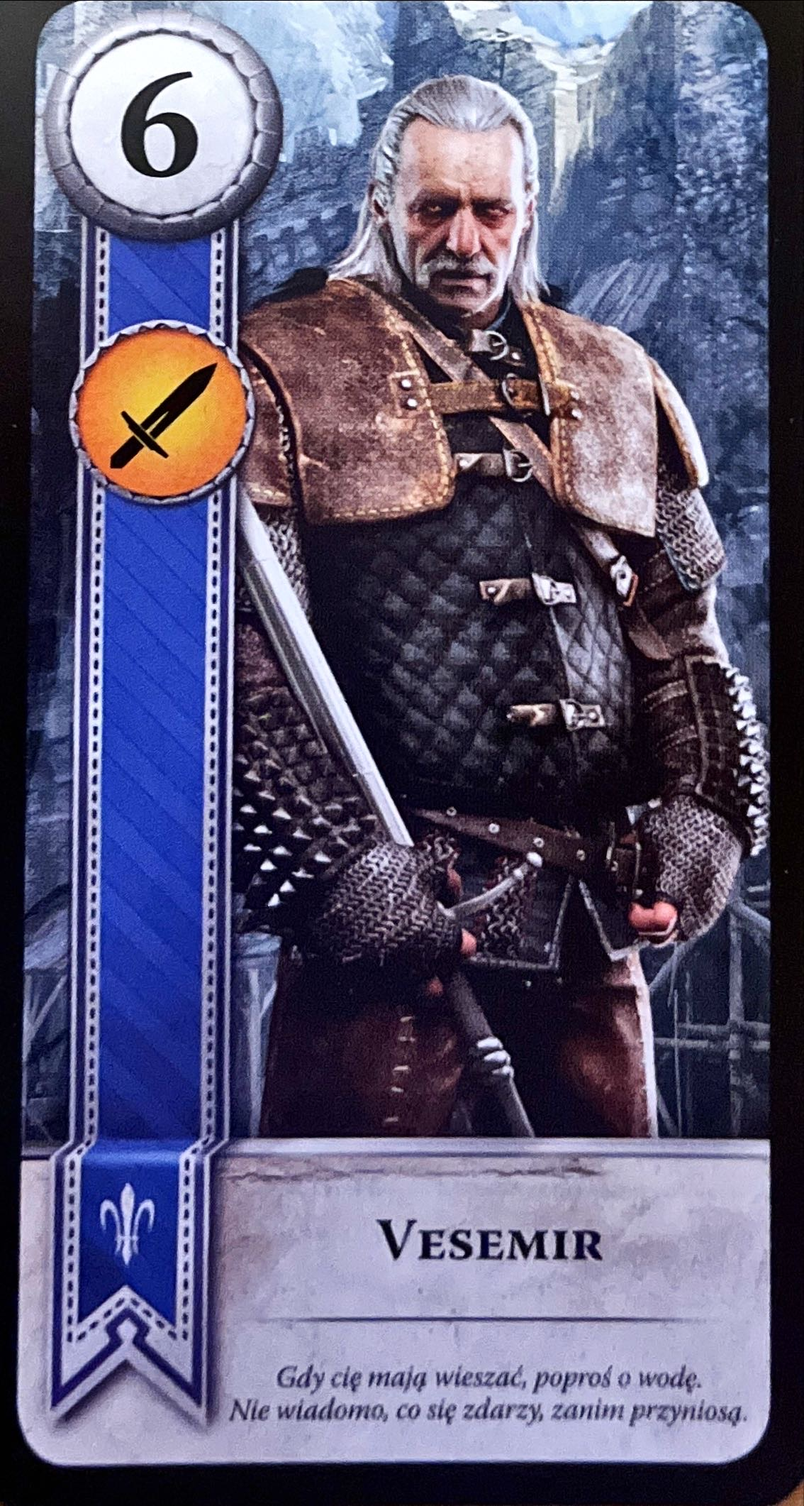6: (47, 9, 282, 244)
miecz: (65, 318, 255, 506)
